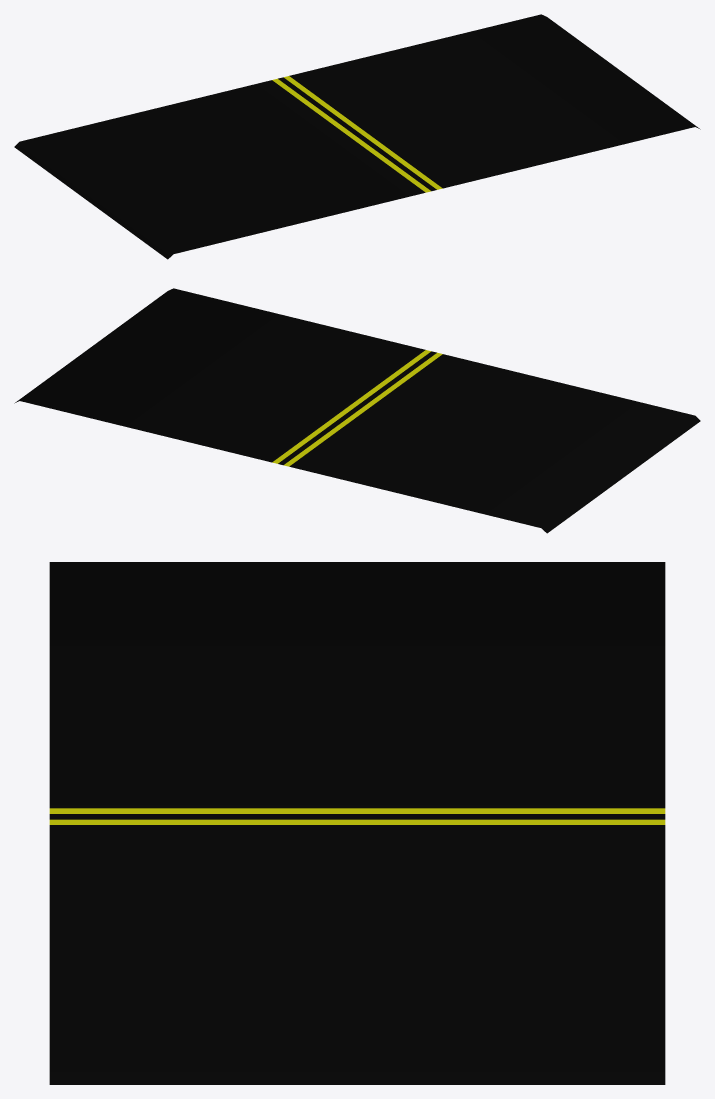
File: Road-Double_A.fbx
3 views of the same model, one above another, from view 1: azimuth 30°, elevation 25°; view 2: azimuth 150°, elevation 25°; view 3: azimuth 270°, elevation 25° (orthographic). The views are drawn at different scales.
Visible parts, largest first — view 1: Road-Double_A; view 2: Road-Double_A; view 3: Road-Double_A.
Part boxes in pixels (box(x1,y1,x2,y2)): Road-Double_A: box(14, 14, 700, 259); Road-Double_A: box(14, 288, 700, 533); Road-Double_A: box(49, 562, 665, 1084).
Bounding box in the file's own units: 1400 × 10 × 700.
